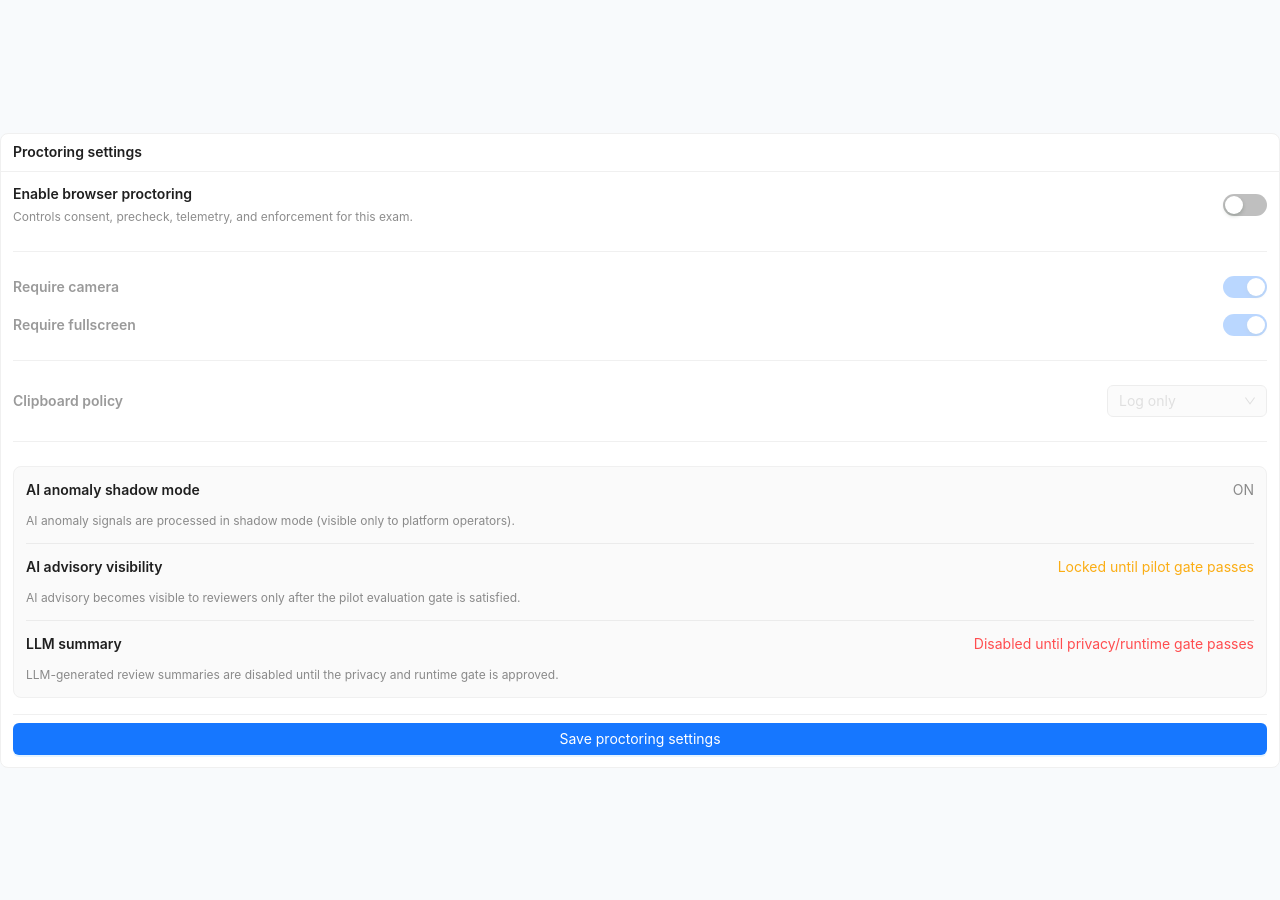
Test: ProctoringSettingsPanel › shows error message on save failure
This screenshot has width=1280, height=900.
Click the button "Save proctoring settings" at point(640, 738), box [13,722,1267,754]
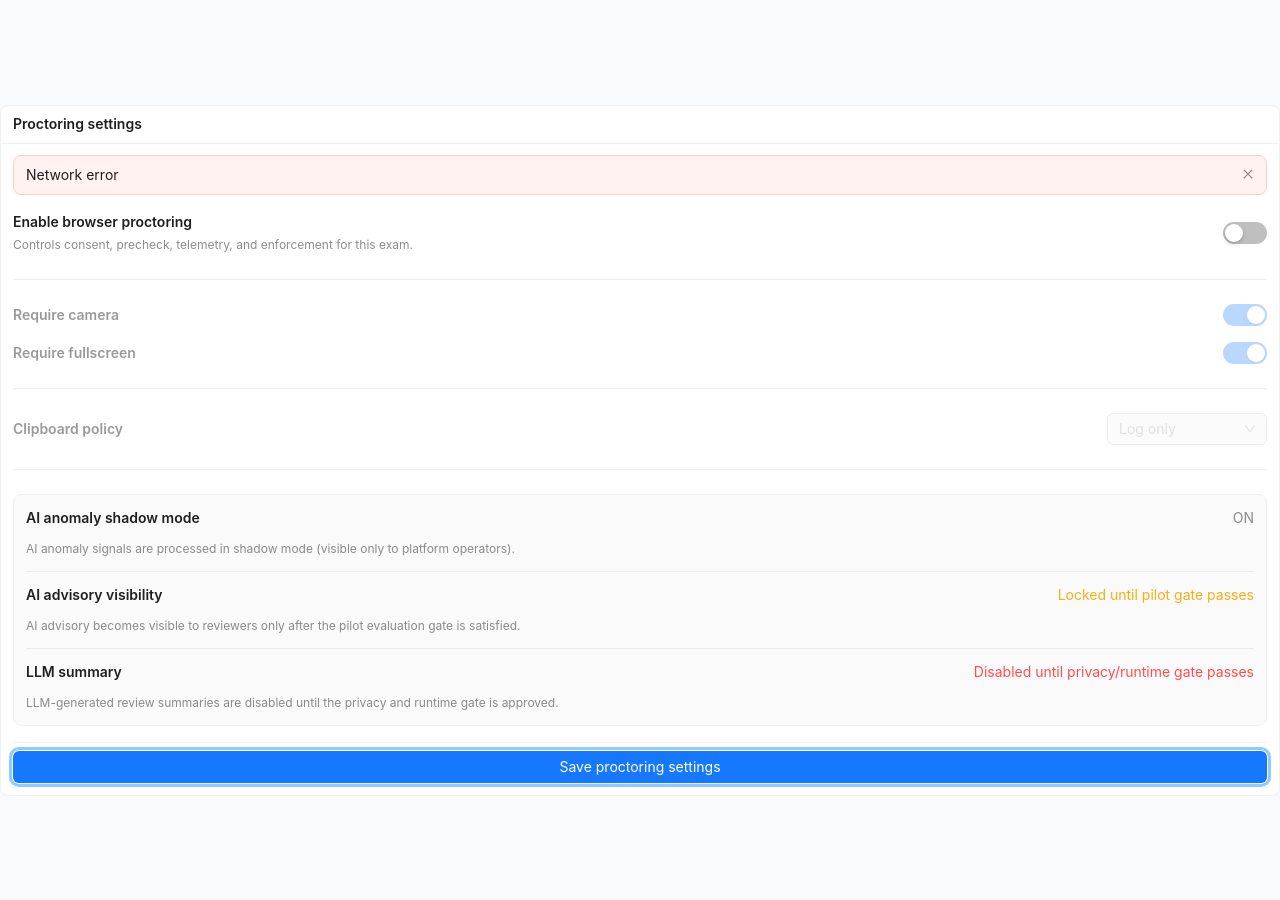
Check: the text "Network error" is shown, box [26,166,119,182]
